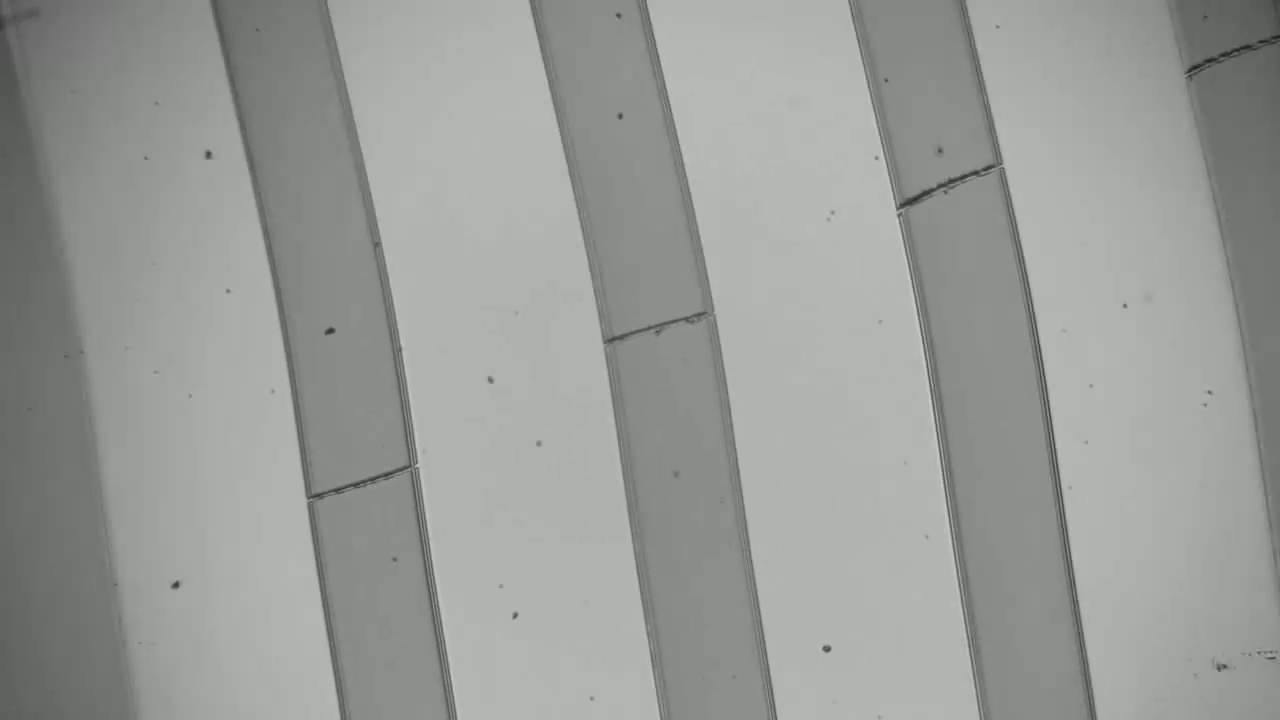scratch: (1187, 29, 1280, 78), (905, 162, 995, 208), (307, 463, 408, 502), (609, 314, 705, 345)
